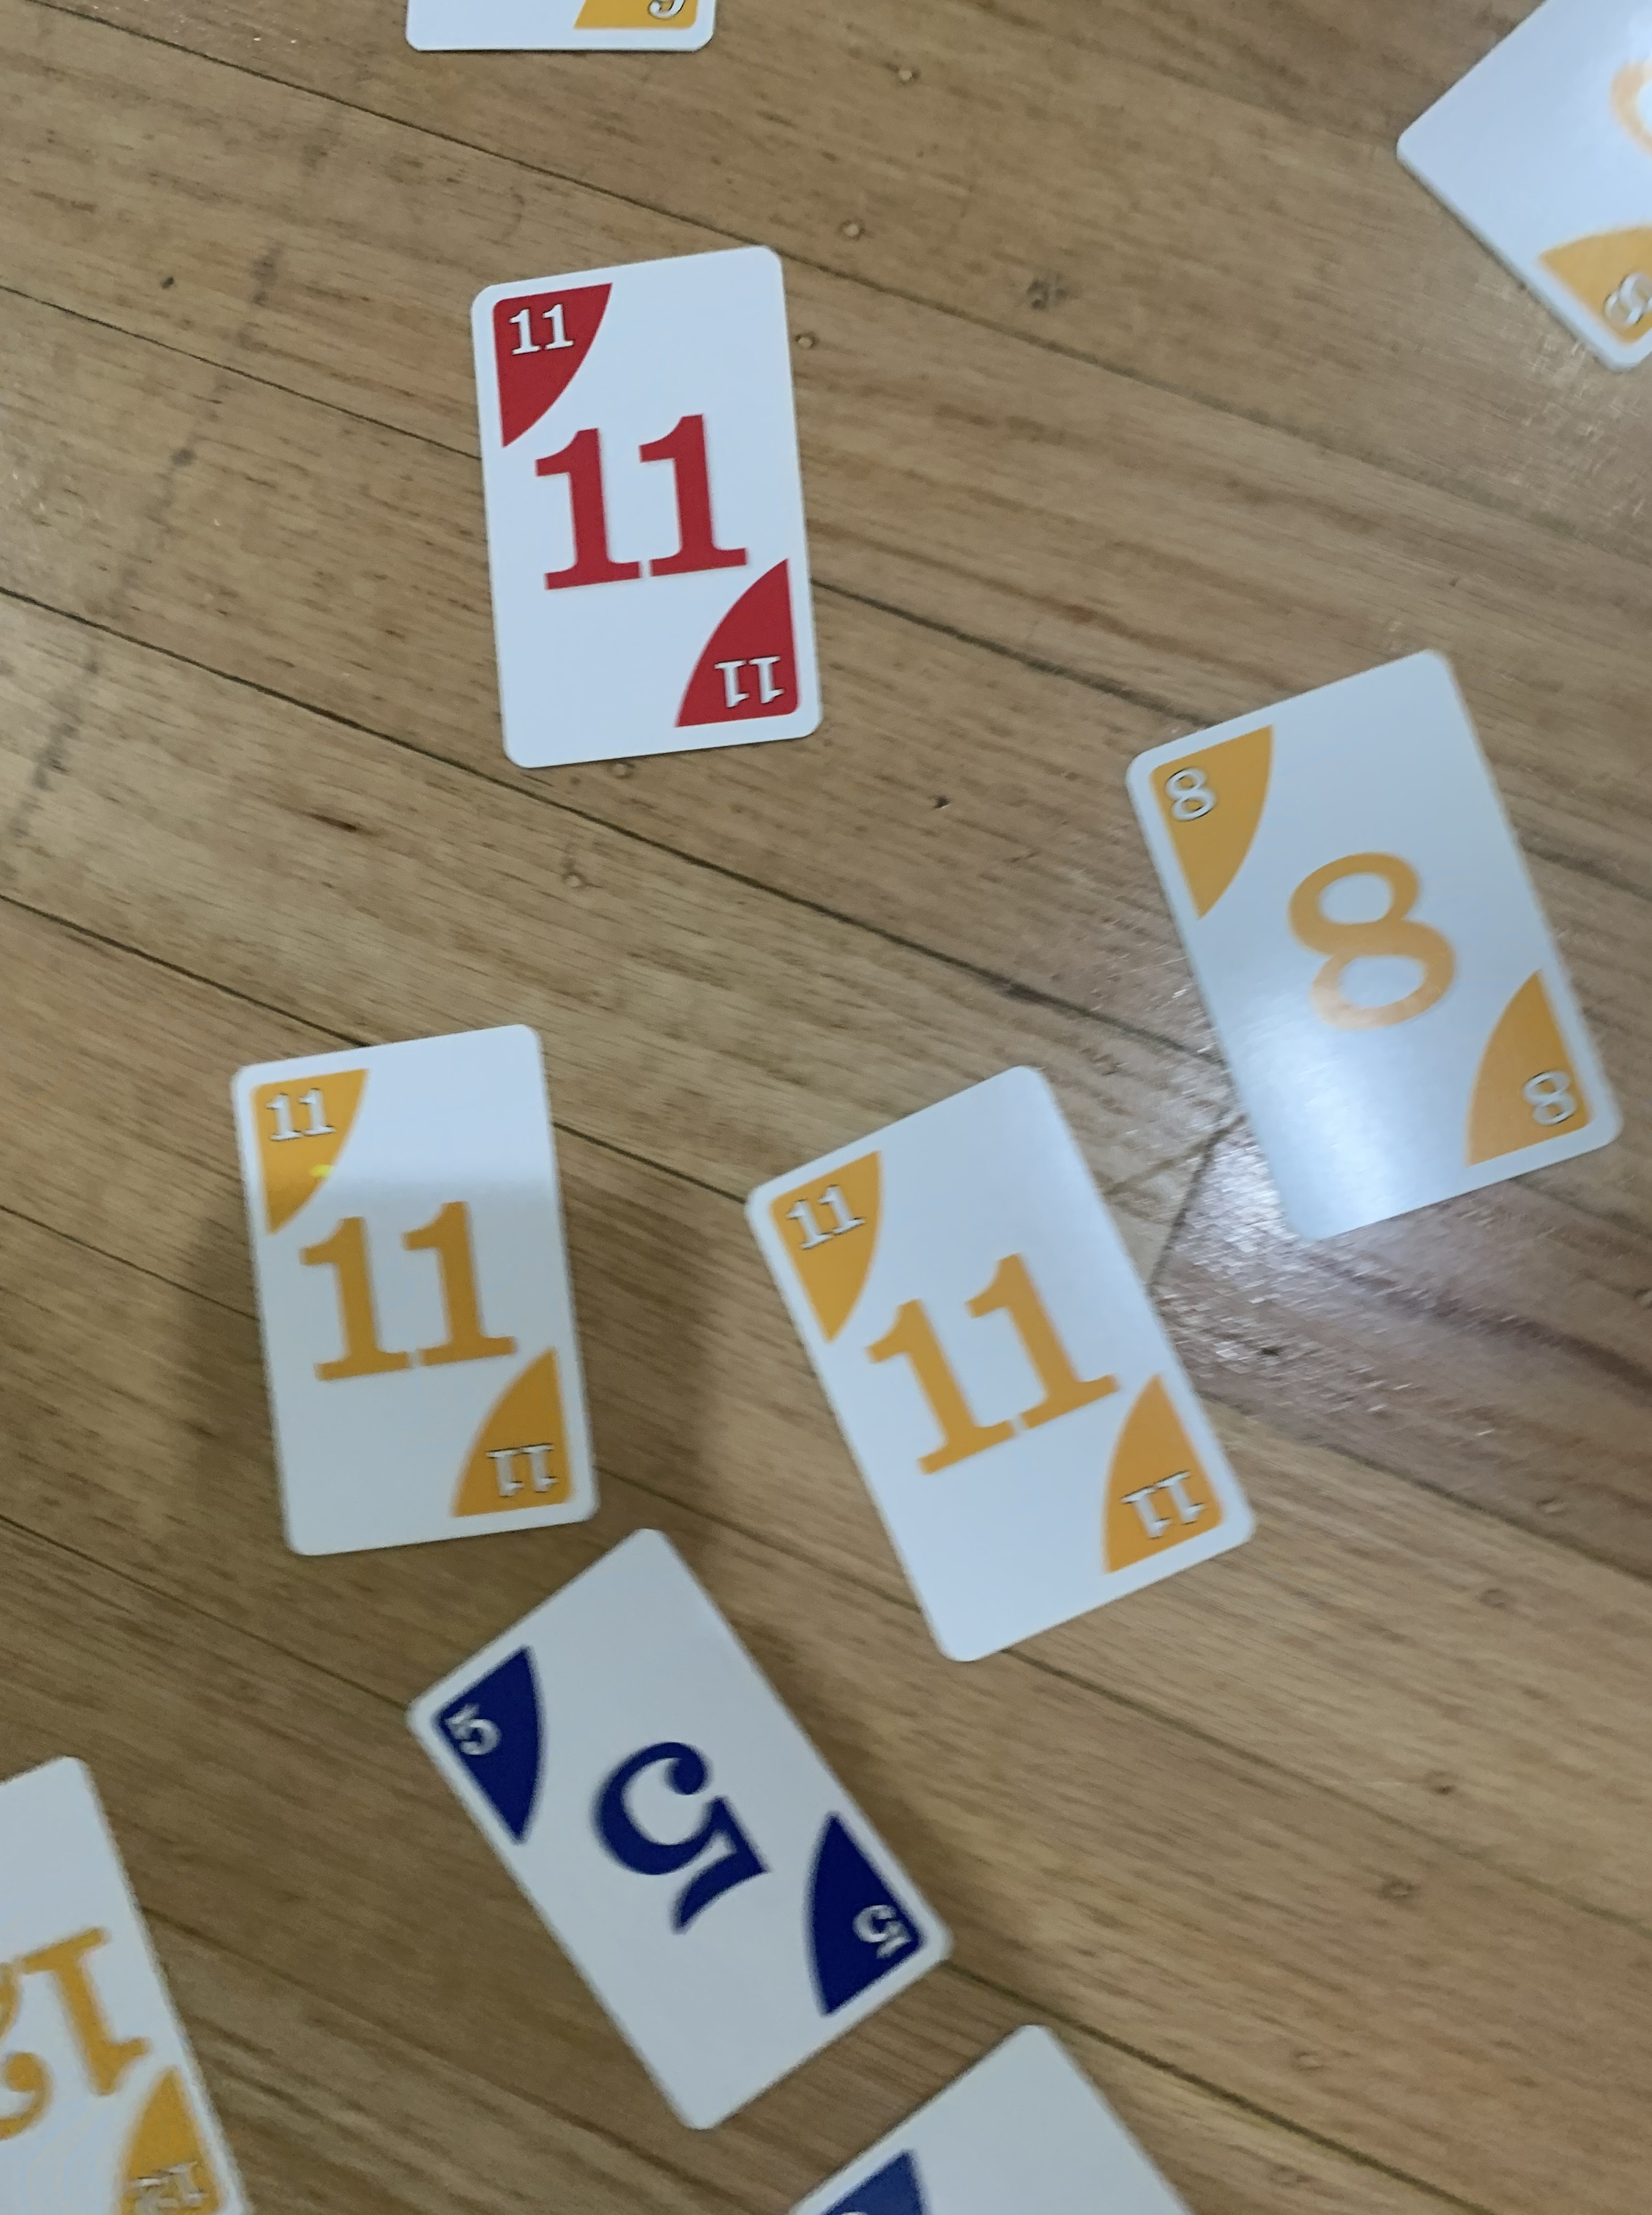eight: (1109, 628, 1629, 1243)
eleven: (729, 1054, 1267, 1670), (203, 1012, 607, 1573), (456, 236, 833, 774)
five: (370, 1515, 972, 2153)
